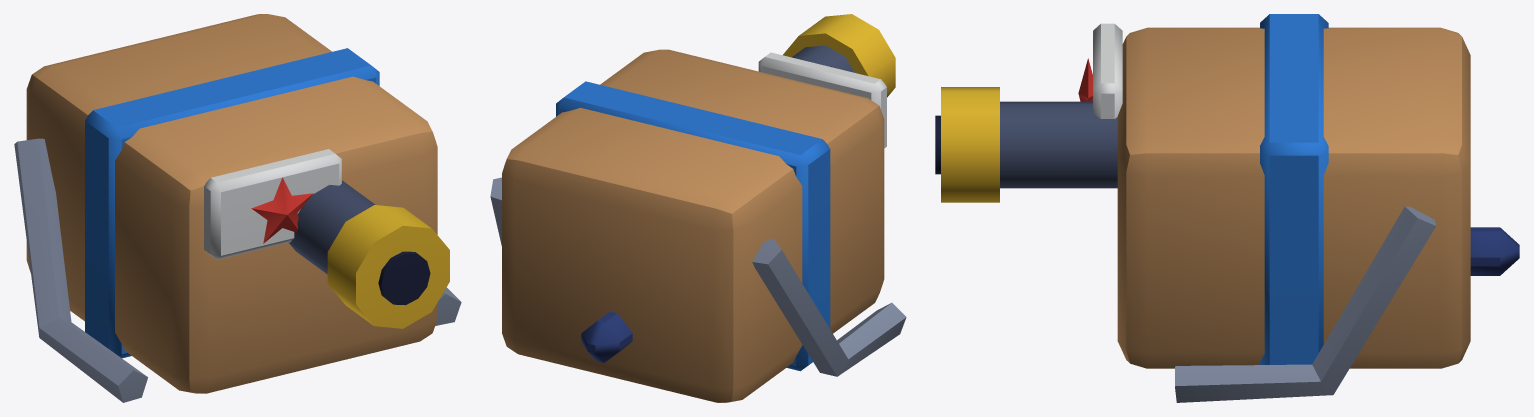
The model's file is w_j_turret.glb.
The picture shows the model from 3 angles, left to right: view 1: azimuth 30°, elevation 25°; view 2: azimuth 150°, elevation 25°; view 3: azimuth 270°, elevation 25°; orthographic projection. The views are drawn at different scales.
Visible parts, largest first — view 1: body; view 2: body; view 3: body.
Boxes of the visible parts, bbox=[...] form: body: bbox=[14, 14, 461, 402]; body: bbox=[490, 14, 906, 402]; body: bbox=[935, 14, 1519, 402].
Size of the model in its own units: 0.219 by 0.1356 by 0.298.
